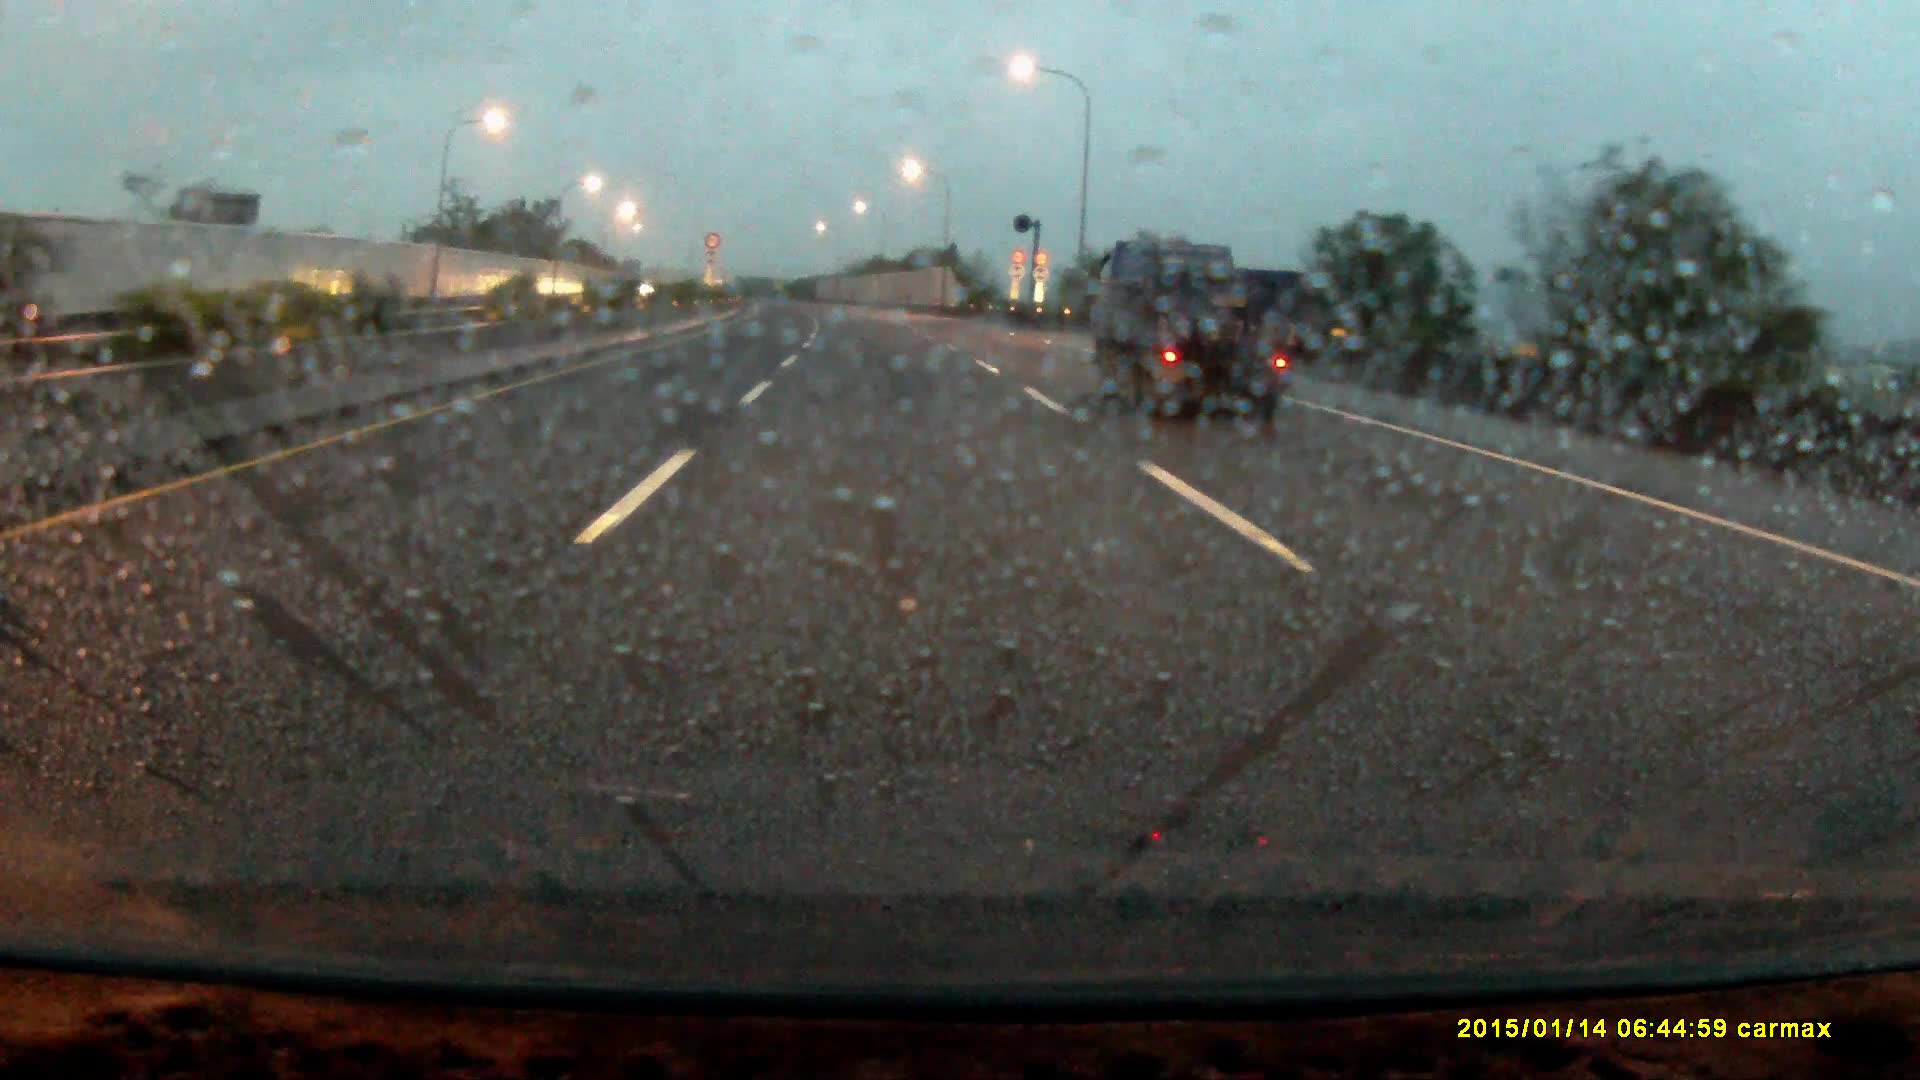vehicle: (1091, 243, 1298, 417)
